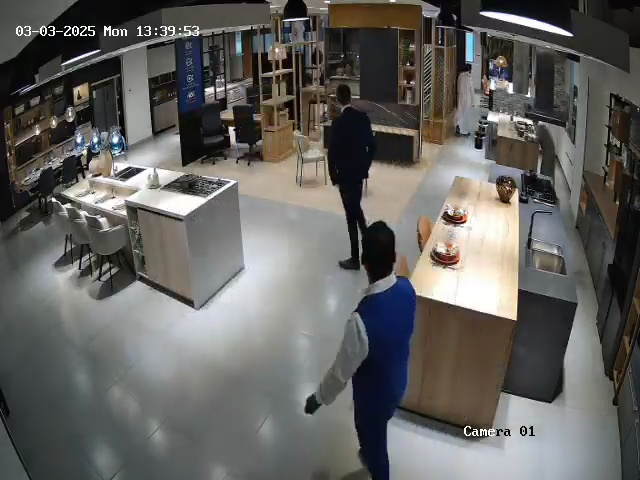employee: (304, 221, 417, 480), (327, 84, 376, 271)
male: (452, 52, 478, 138)
